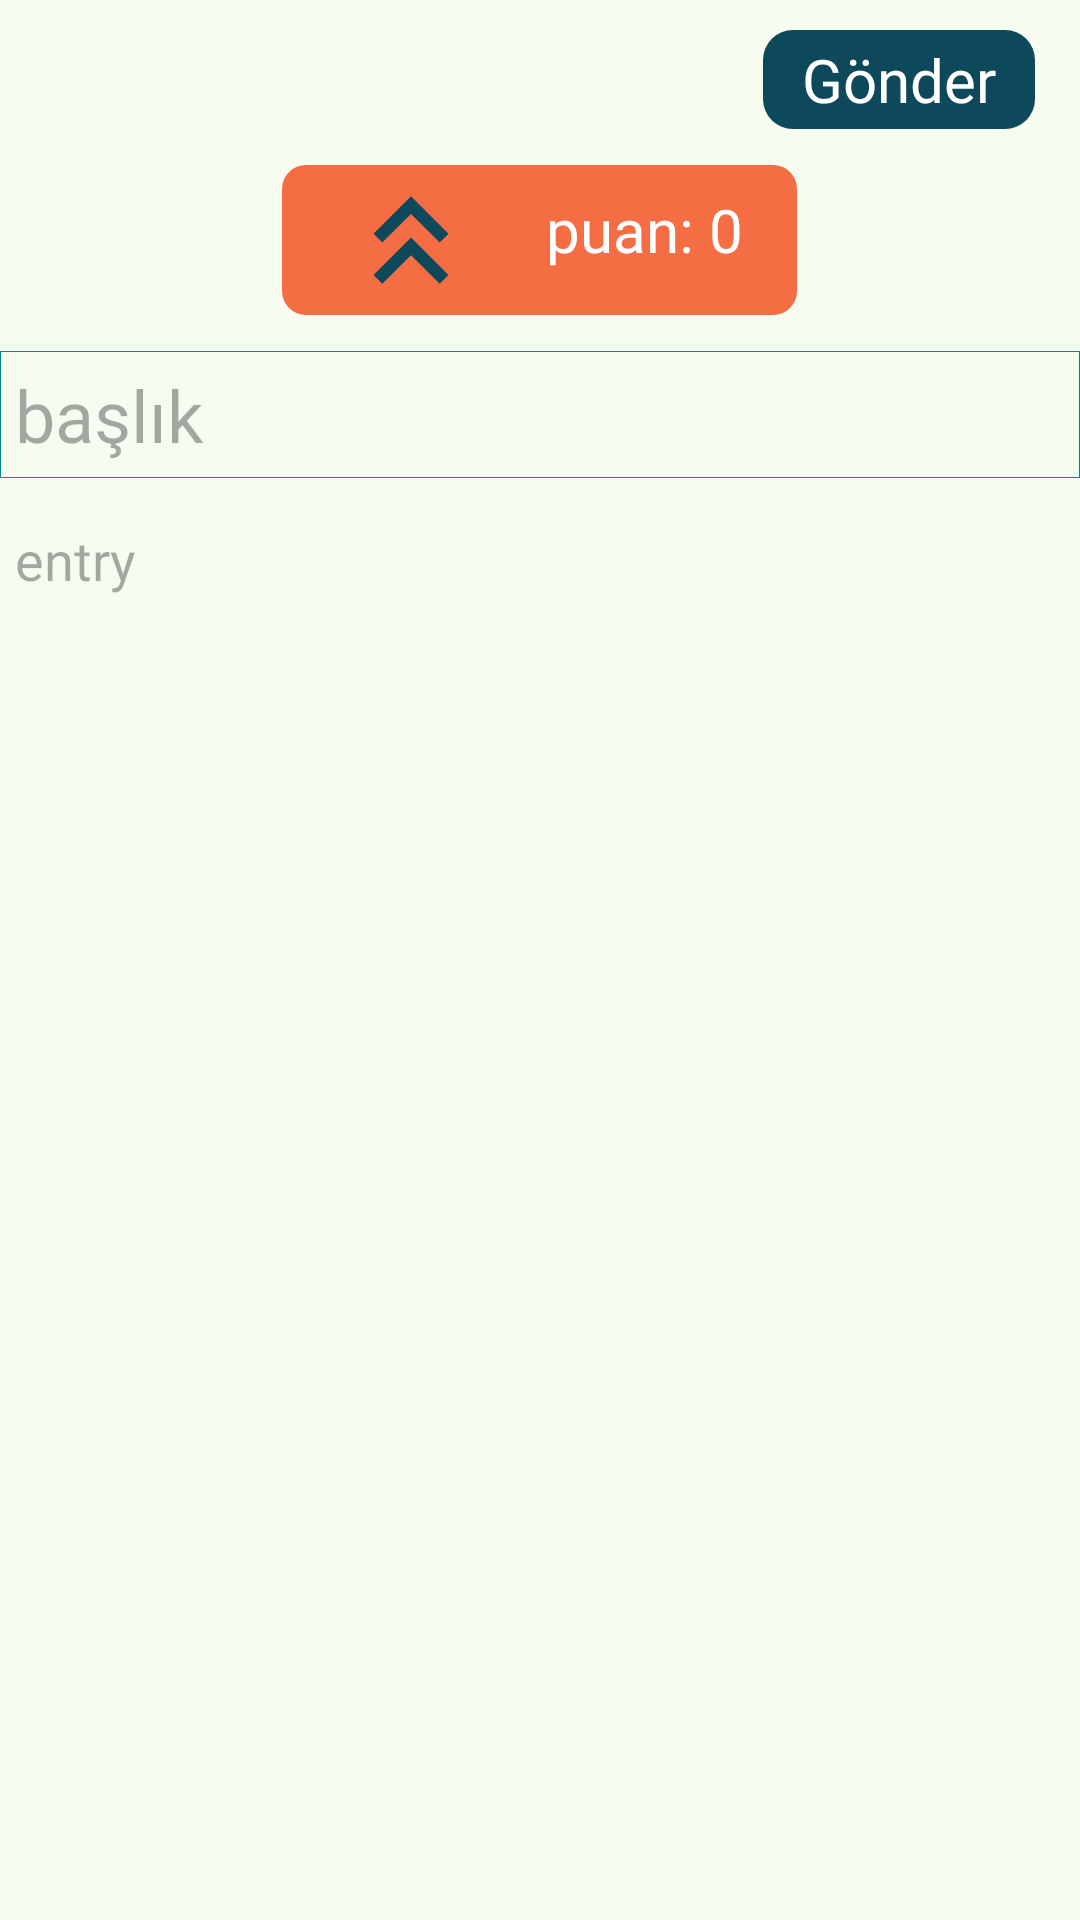

Locate icon controls on the screen. Image size 1080 x 1920, boxes as (x1, y1, x2, y2).
keyboard double arrow up: (373, 196, 449, 284)
